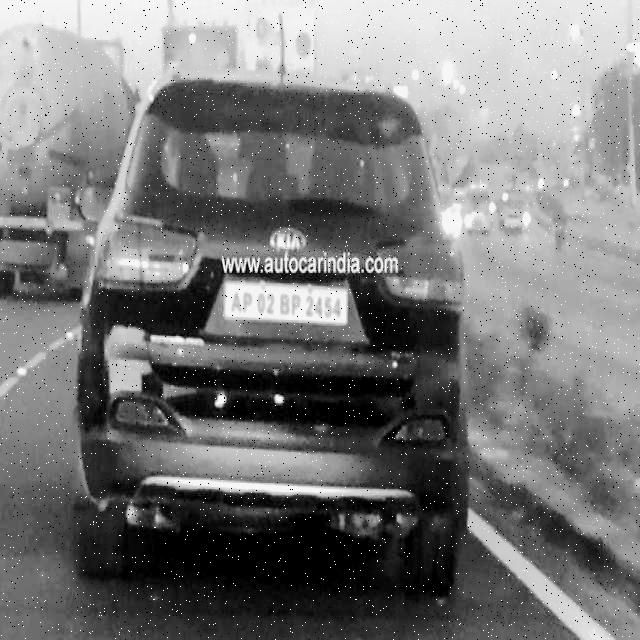Car: (85, 68, 469, 614)
